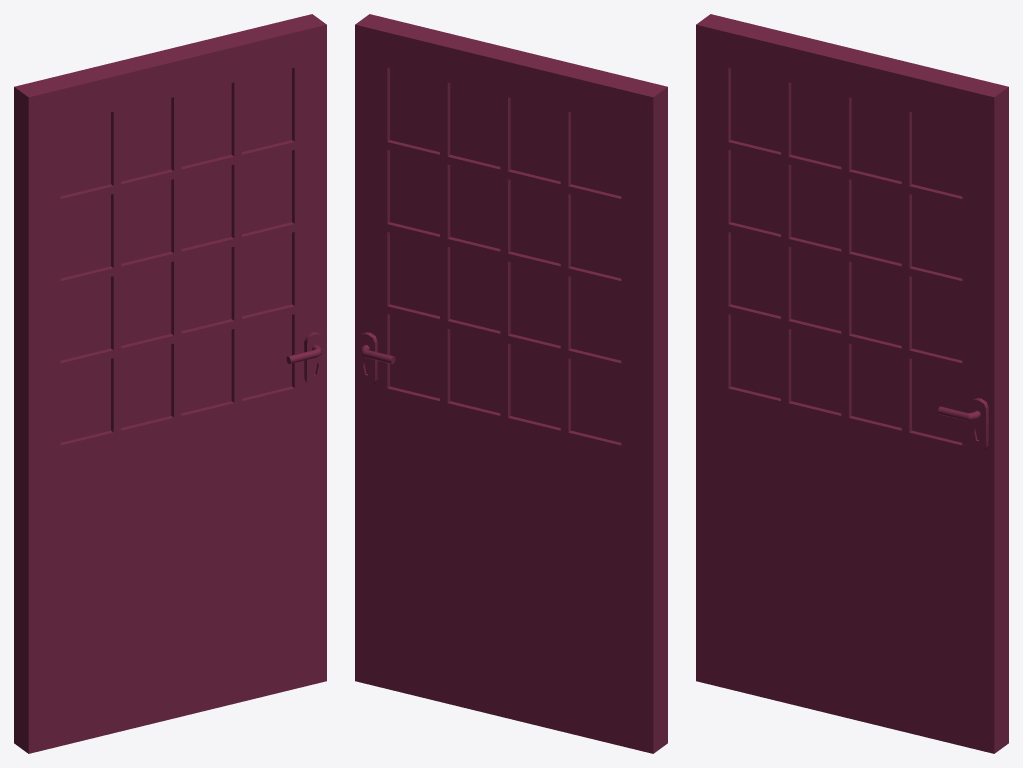
The model's file is PuertaEscaleras.fbx.
3 views of the same model, side by side, from view 1: azimuth 30°, elevation 25°; view 2: azimuth 150°, elevation 25°; view 3: azimuth 330°, elevation 25° (orthographic).
Visible parts, largest first — view 1: Puerta_escaleras; view 2: Puerta_escaleras; view 3: Puerta_escaleras.
Part boxes in pixels (<box>): Puerta_escaleras: <box>14,14,326,753</box>; Puerta_escaleras: <box>355,14,667,753</box>; Puerta_escaleras: <box>696,14,1008,753</box>.
Bounding box in the file's own units: 159 × 334 × 32.05.
